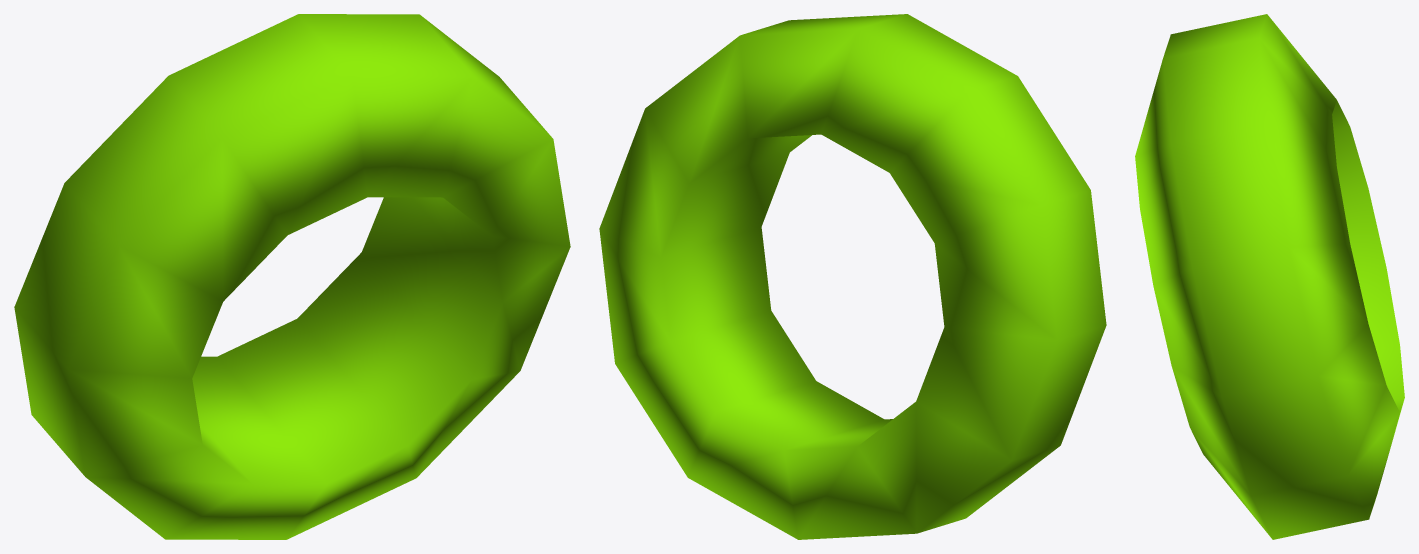
Rendered from Collar FBX.fbx.
The picture shows the model from 3 angles, left to right: view 1: azimuth 30°, elevation 25°; view 2: azimuth 150°, elevation 25°; view 3: azimuth 270°, elevation 25°; orthographic projection. The views are drawn at different scales.
Visible parts, largest first — view 1: Collar_Geo; view 2: Collar_Geo; view 3: Collar_Geo.
Boxes of the visible parts, left/top/right/bottom form: Collar_Geo: left=14, top=14, right=570, bottom=539; Collar_Geo: left=599, top=14, right=1106, bottom=539; Collar_Geo: left=1135, top=14, right=1404, bottom=539.
Size of the model in its own units: 1.85 by 1.89 by 0.9651.
